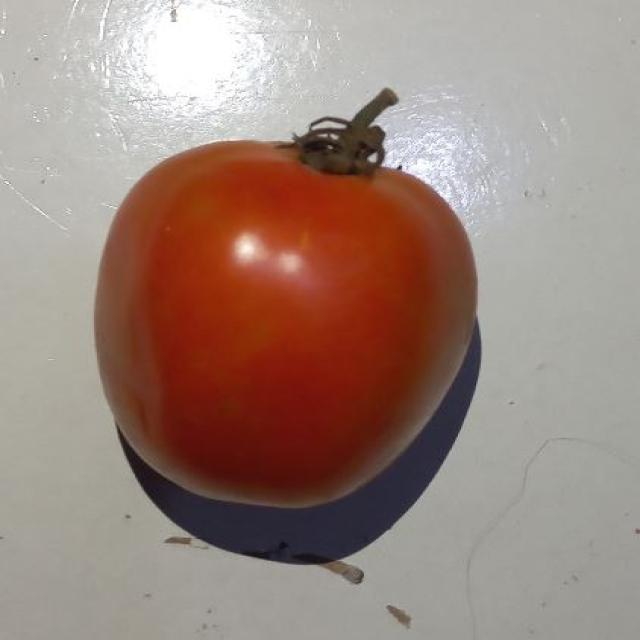ripe tomato: (50, 120, 481, 494)
